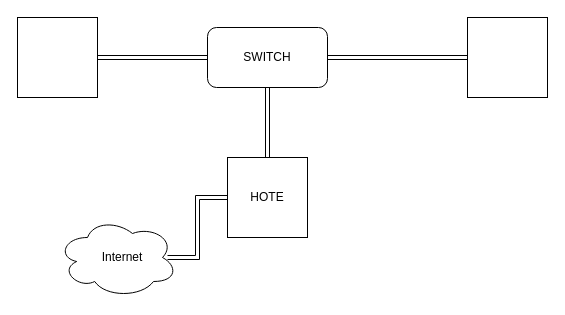
This 565x315 diagram has some shape labels left out. The shapes that lost their labels are listed below. From the top down, each one's centre as x and y in pixels, then its label:
At pixel 57 57: "VM".
At pixel 507 57: "Serveur DHCP".
